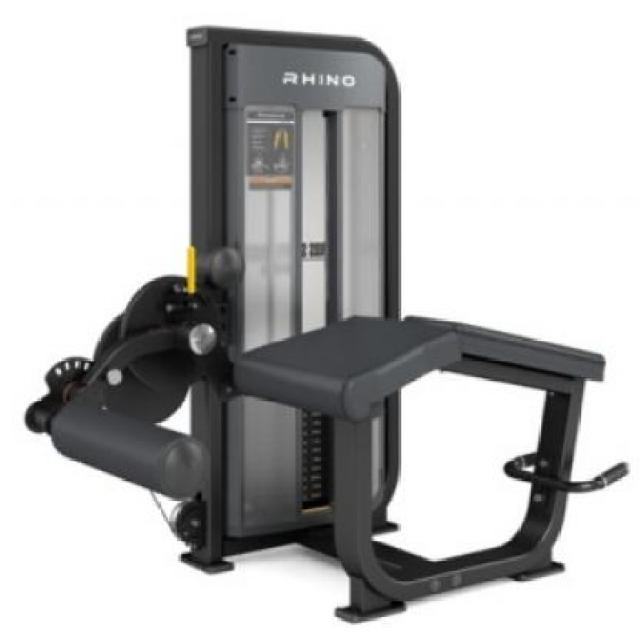reg curl machine: (20, 18, 629, 624)
